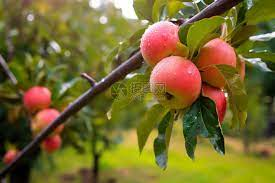Apple: (149, 57, 200, 110), (138, 21, 188, 64), (197, 37, 239, 86), (195, 85, 229, 126), (30, 112, 66, 135), (21, 86, 52, 110), (44, 135, 60, 156), (3, 147, 21, 164)
